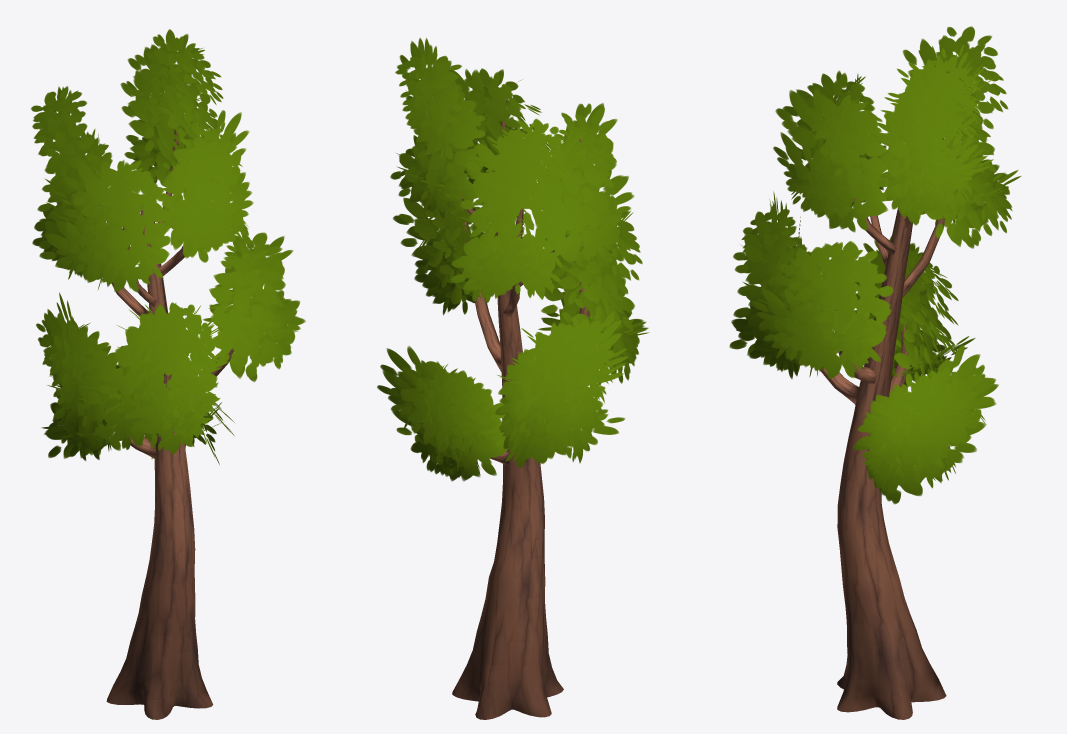
Rendered from tree-qvoop92wmg-transformed.glb.
3 renders of one model, left to right at view 1: azimuth 30°, elevation 25°; view 2: azimuth 150°, elevation 25°; view 3: azimuth 270°, elevation 25°, orthographic. The views are drawn at different scales.
Visible parts, largest first — view 1: CommonTree_3; view 2: CommonTree_3; view 3: CommonTree_3.
Part boxes in pixels (x1,y1,x2,y2): CommonTree_3: (31,29,305,719); CommonTree_3: (377,38,649,719); CommonTree_3: (729,26,1021,719).
Size of the model in its own units: 4.06 by 9.43 by 4.24.
Materials: 2 (2 with a texture image).
